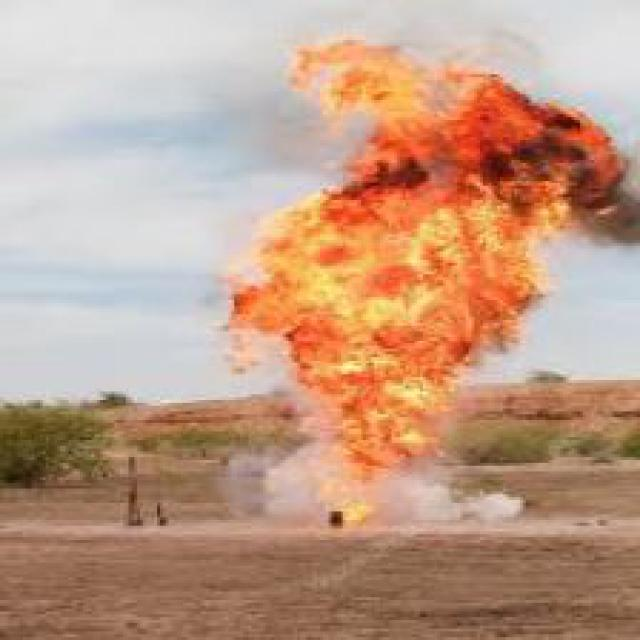fire: (228, 26, 632, 517)
